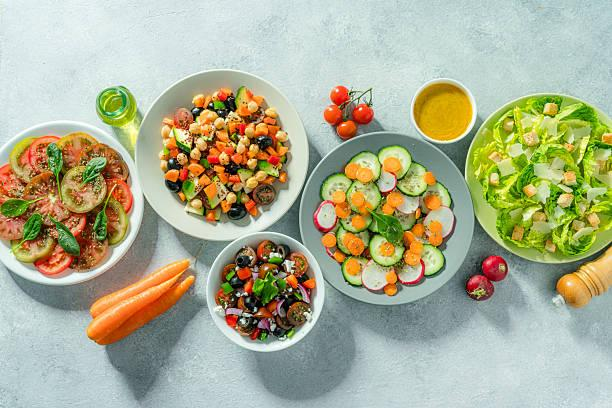Braised Crucian Carp: (297, 131, 468, 305), (135, 70, 305, 240), (465, 93, 610, 263), (2, 120, 143, 287), (205, 233, 323, 352)
